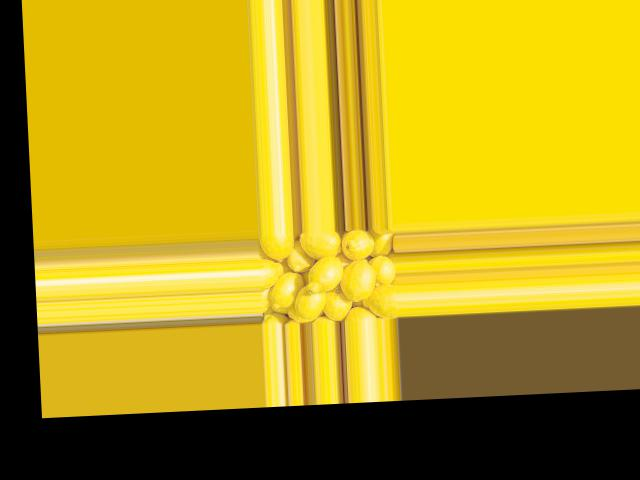lemon: (290, 286, 324, 322)
